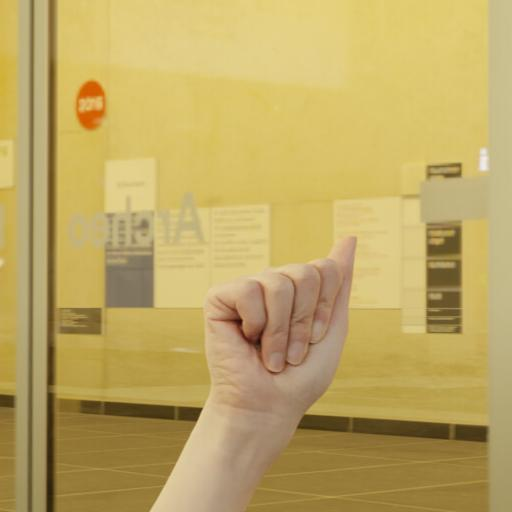A: (198, 230, 360, 411)
